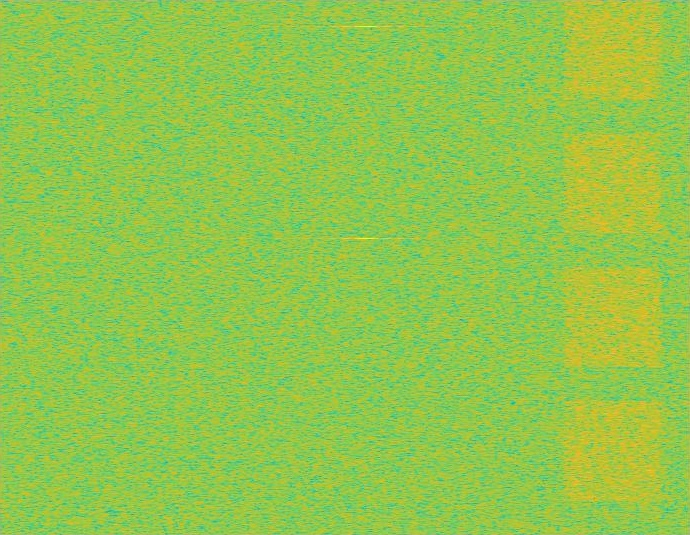5G: (561, 0, 665, 534)
Radar: (360, 0, 374, 534)
